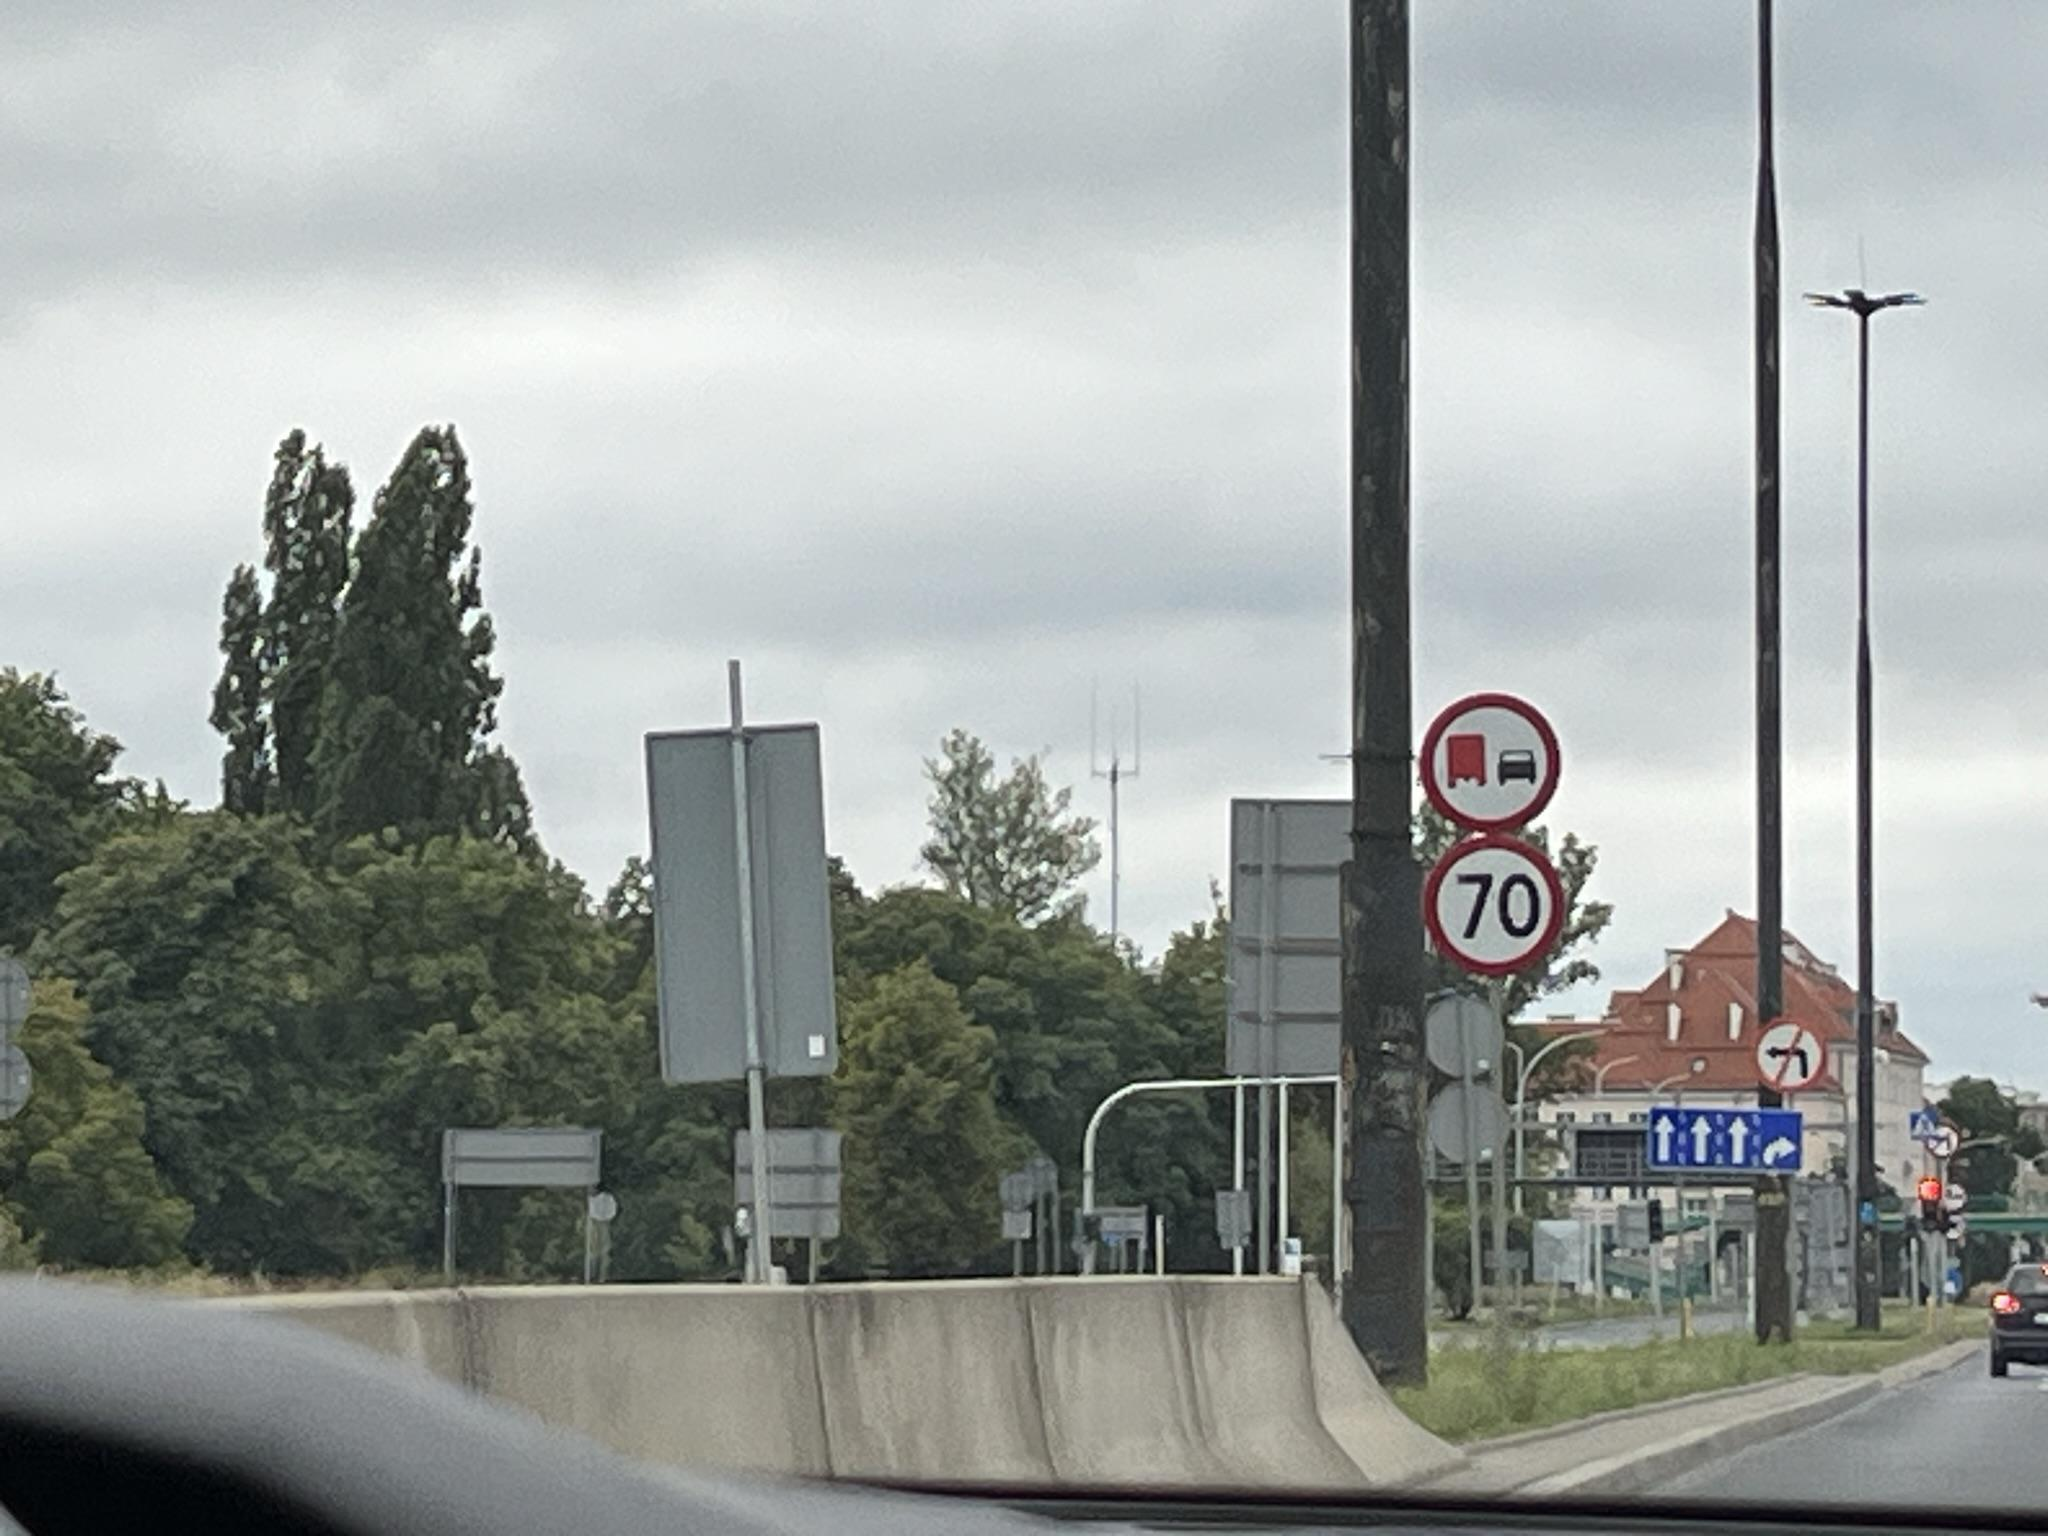information: (1908, 1110, 1938, 1139)
other: (1645, 1105, 1804, 1176)
prohibitory: (1421, 687, 1564, 834), (1422, 837, 1567, 976), (1750, 1013, 1830, 1094), (1925, 1125, 1963, 1158)
